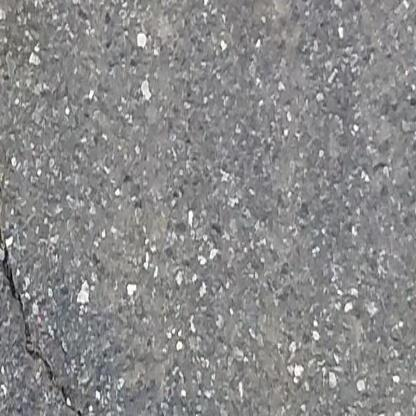Cracks: (0, 130, 95, 416)
